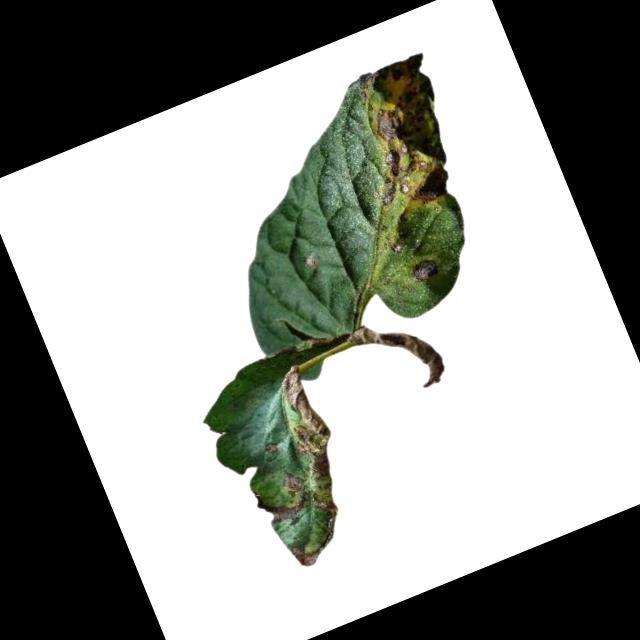Early_blight: (331, 49, 474, 219), (262, 361, 362, 523), (343, 296, 463, 408), (254, 468, 315, 527), (287, 533, 328, 571), (408, 254, 441, 284), (265, 439, 281, 454)
